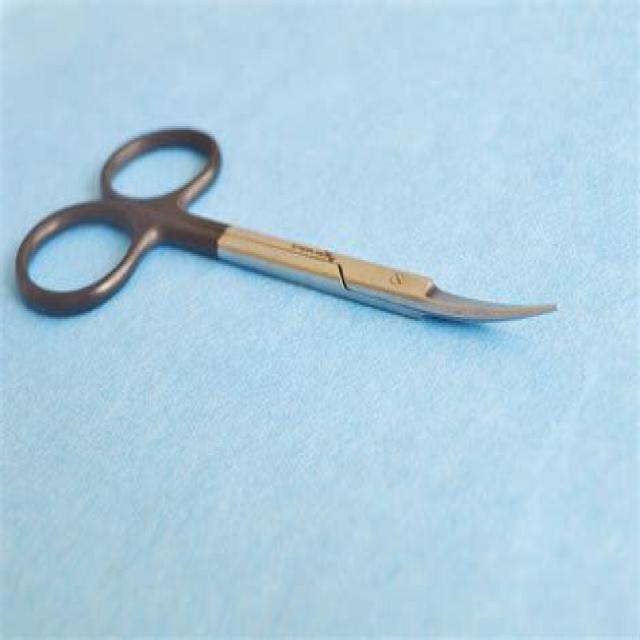Iris: (12, 122, 559, 329)
